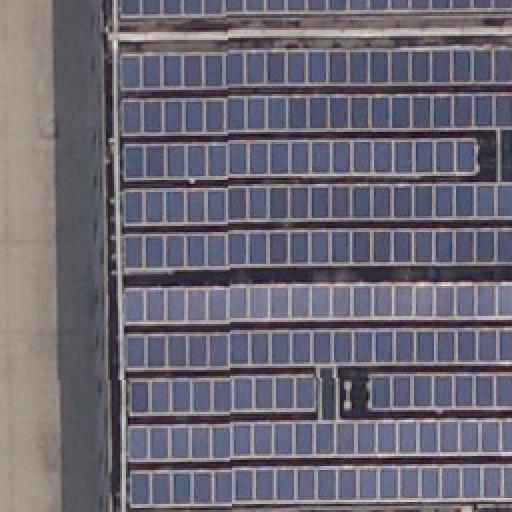solar-panel: (120, 45, 512, 91), (120, 92, 512, 136), (121, 278, 511, 322), (121, 226, 511, 270), (121, 182, 511, 226), (124, 324, 512, 368), (128, 462, 512, 506), (128, 418, 512, 462), (121, 138, 479, 182), (125, 374, 315, 414), (116, 0, 512, 16), (368, 370, 512, 410)
